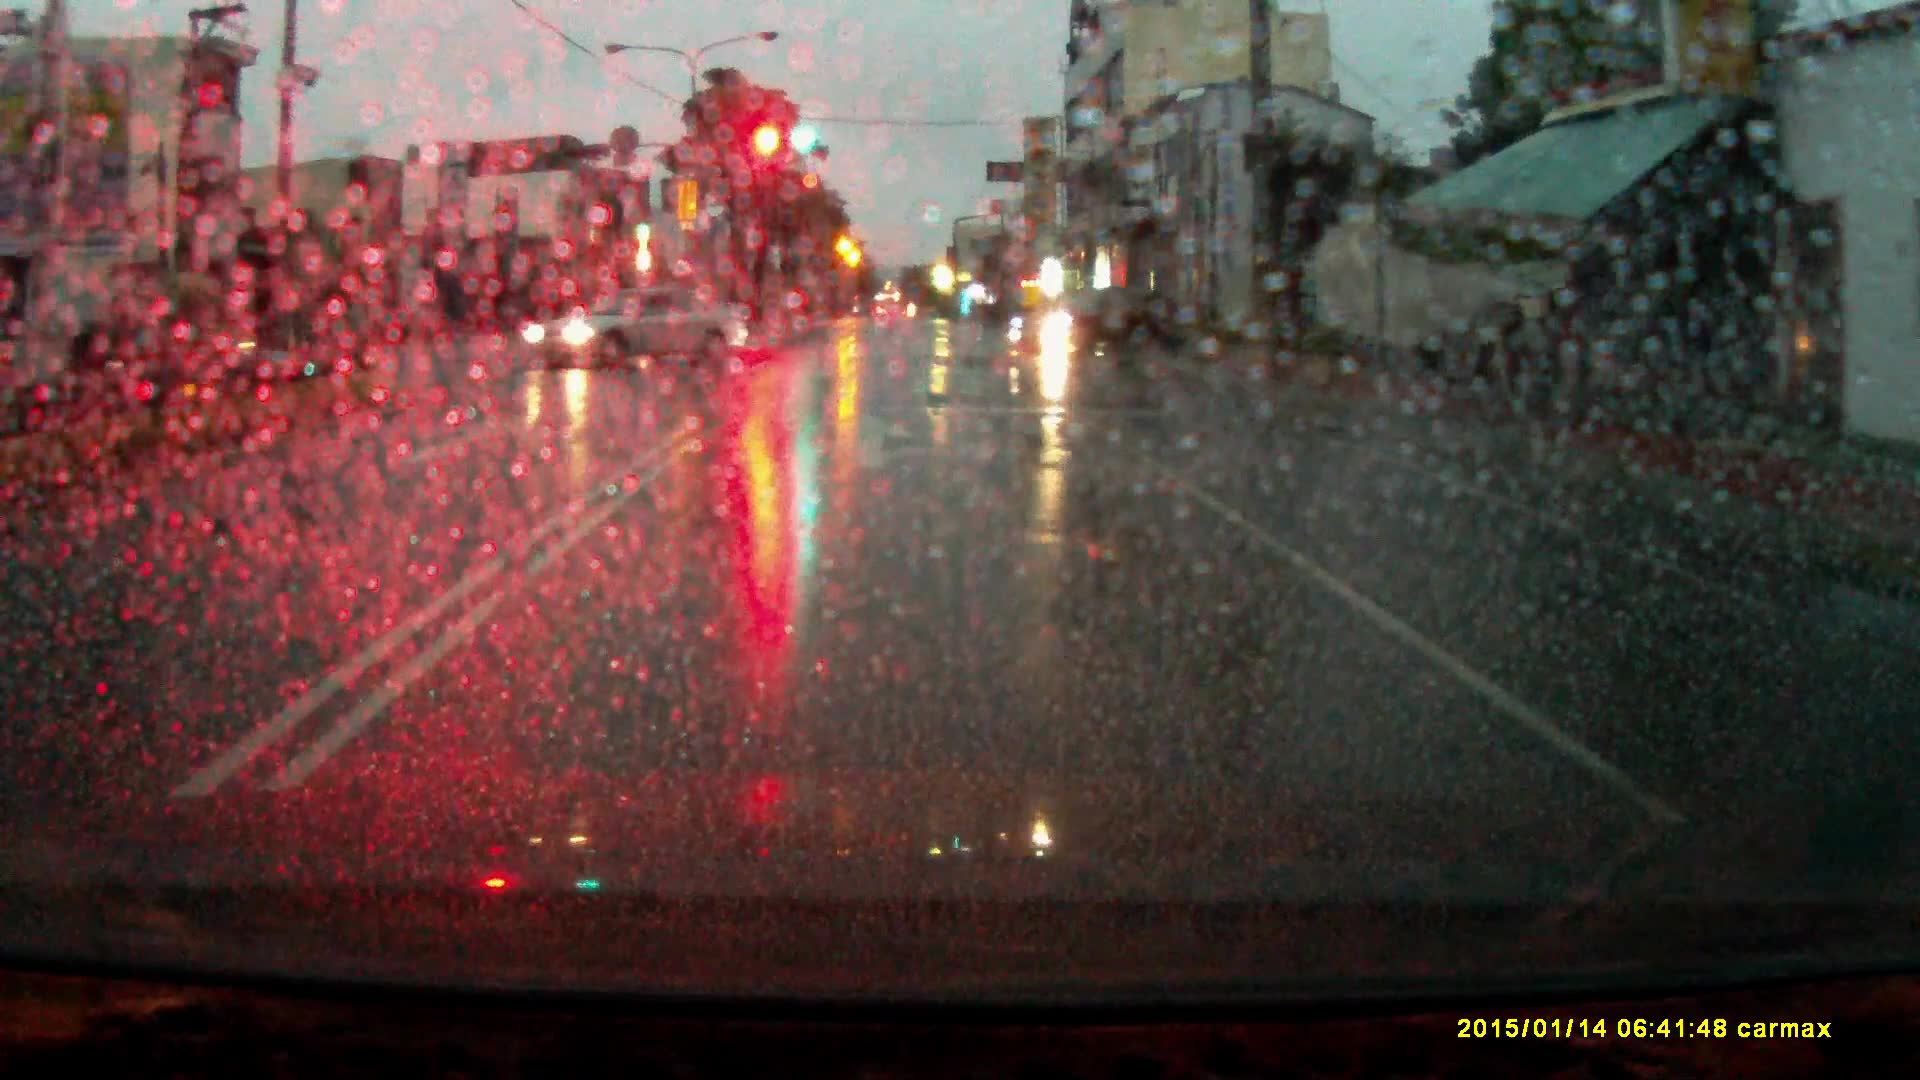vehicle: (34, 265, 295, 390), (524, 287, 753, 375), (1011, 293, 1191, 357)
